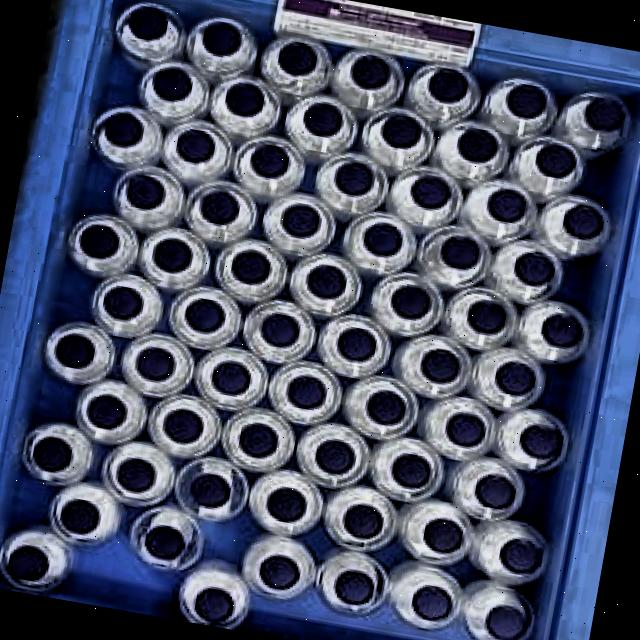vial: (3, 543, 50, 582), (84, 391, 131, 430), (51, 332, 98, 371), (517, 423, 565, 461), (421, 514, 466, 554), (491, 360, 539, 397), (31, 433, 75, 473), (101, 109, 145, 149), (361, 219, 405, 259), (540, 311, 585, 350), (99, 284, 145, 322), (363, 388, 409, 426), (208, 358, 252, 397), (334, 324, 378, 363), (77, 222, 121, 261), (160, 408, 205, 446), (196, 188, 241, 226), (331, 159, 376, 197), (121, 173, 167, 210), (236, 422, 279, 461), (259, 310, 302, 349), (340, 502, 384, 540), (411, 582, 455, 620), (133, 344, 177, 382), (513, 250, 557, 288), (148, 65, 193, 102), (124, 4, 169, 41), (258, 553, 300, 592), (332, 568, 374, 607), (184, 296, 227, 334), (473, 473, 517, 510), (418, 347, 462, 384), (264, 484, 306, 522), (150, 237, 192, 275), (456, 126, 498, 164), (57, 498, 100, 535), (390, 453, 433, 490), (390, 284, 433, 321), (498, 537, 541, 574), (562, 204, 605, 241), (409, 173, 452, 210), (485, 187, 529, 223), (315, 437, 357, 474), (305, 263, 347, 300), (506, 82, 548, 119), (285, 375, 328, 411), (227, 249, 270, 285), (279, 204, 322, 240), (198, 21, 242, 56), (222, 82, 266, 117), (116, 456, 156, 494), (190, 472, 231, 509), (585, 95, 626, 132), (465, 298, 507, 334), (173, 127, 215, 163), (485, 605, 528, 640), (350, 54, 390, 91), (144, 525, 185, 561), (439, 235, 480, 271), (444, 411, 486, 446), (302, 102, 344, 137), (250, 143, 290, 179), (380, 113, 421, 148), (536, 144, 577, 179), (428, 69, 471, 102), (277, 40, 316, 76), (194, 587, 233, 622)
